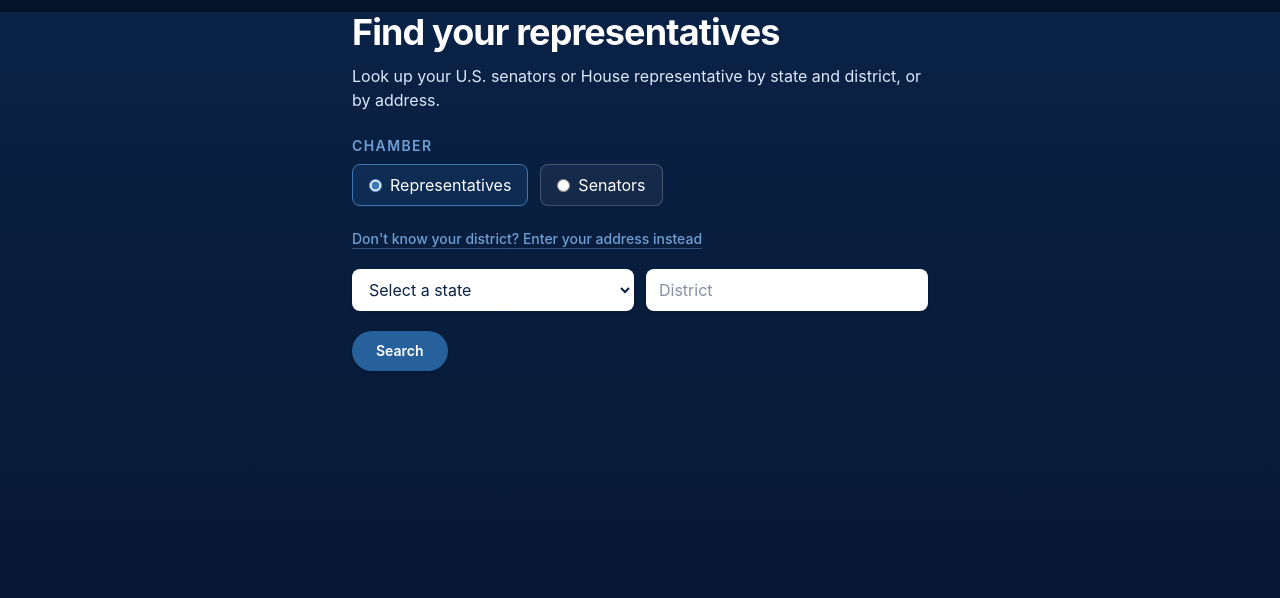
search flows › submits a representatives-by-district search
Select "California" in the dropdown. click: (493, 290)
box: x1=352 y1=269 x2=634 y2=311
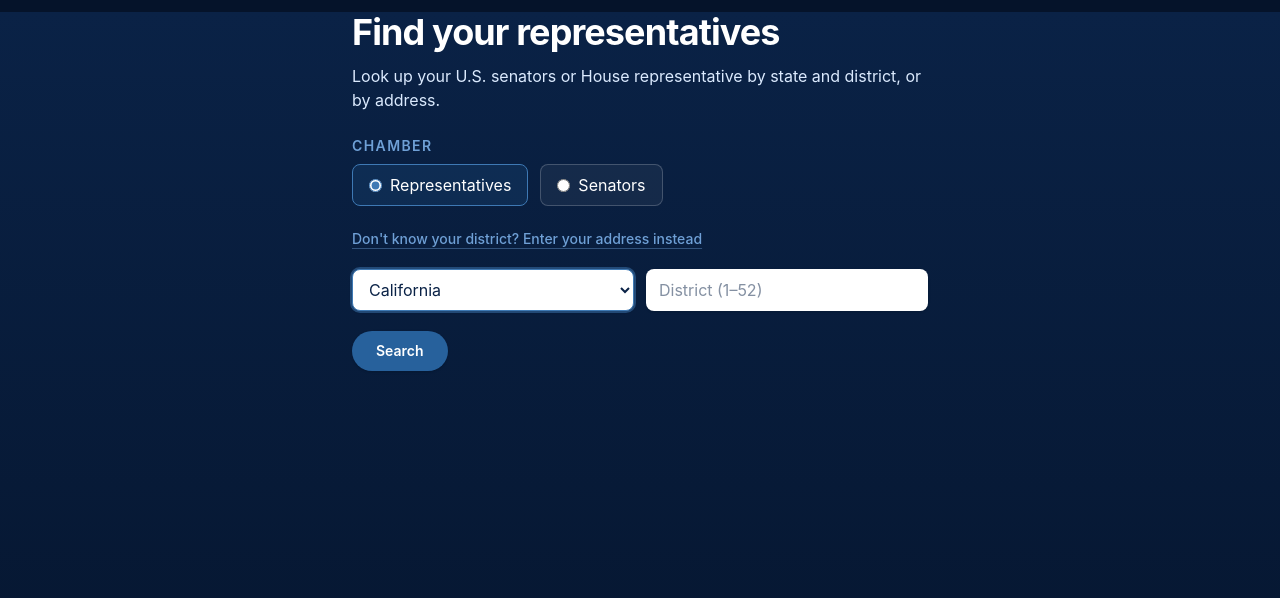
Type "12" into the number field with placeholder "District (1–52)". click: (787, 290)
box: x1=646 y1=269 x2=928 y2=311
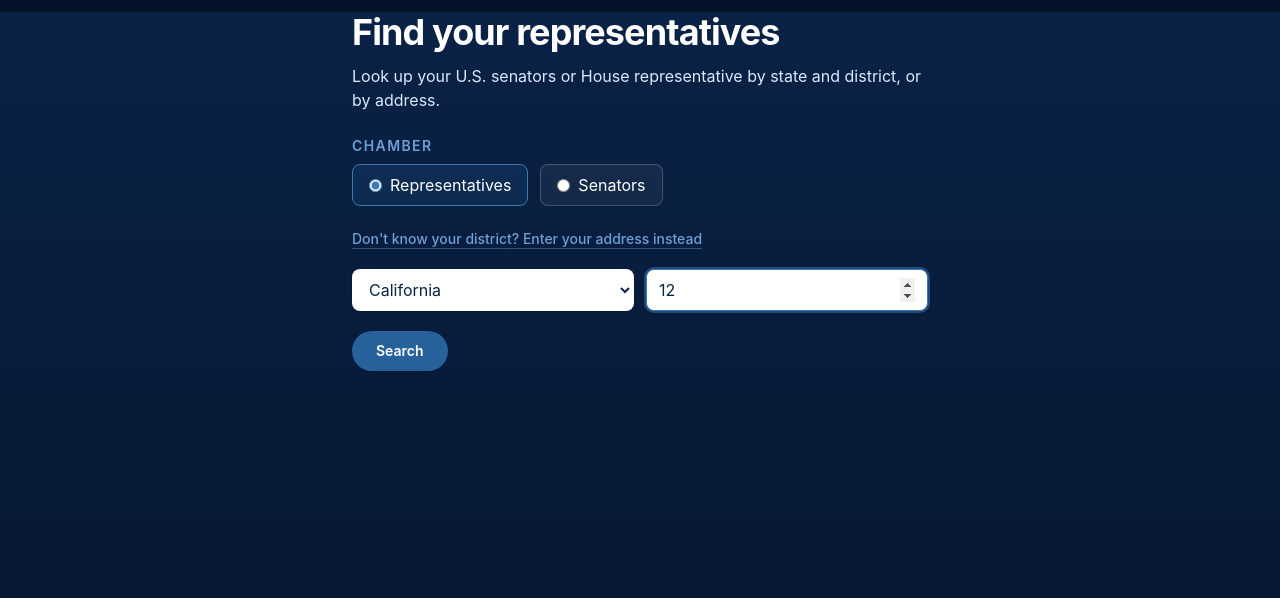
Click the button "Search". click: (400, 351)
box: x1=352 y1=331 x2=448 y2=371
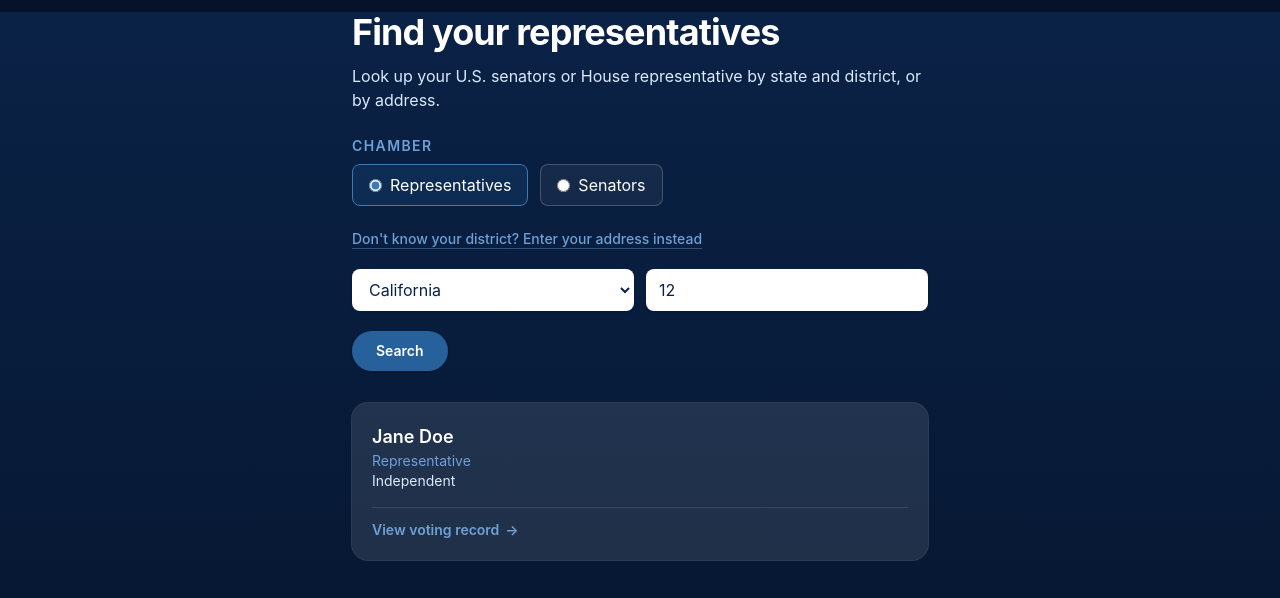
Result: the text "Jane Doe" is shown at x1=372 y1=426 x2=454 y2=447
